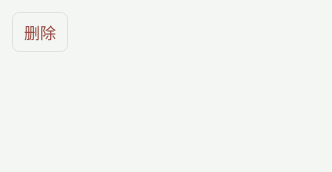
Test: permanent novel deletion › ends a hung preview after 60 seconds without automatically retrying or deleting
Click the button with aria-label "永久删除小说 测试小说" at [40, 32], box [12,12,68,52]
Wait 60000 ms
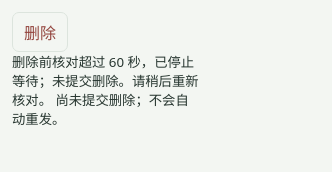
Expected: the message shows "核对超过 60 秒", [12,53,199,109]
Expected: the message shows "未提交删除", [12,53,199,109]
